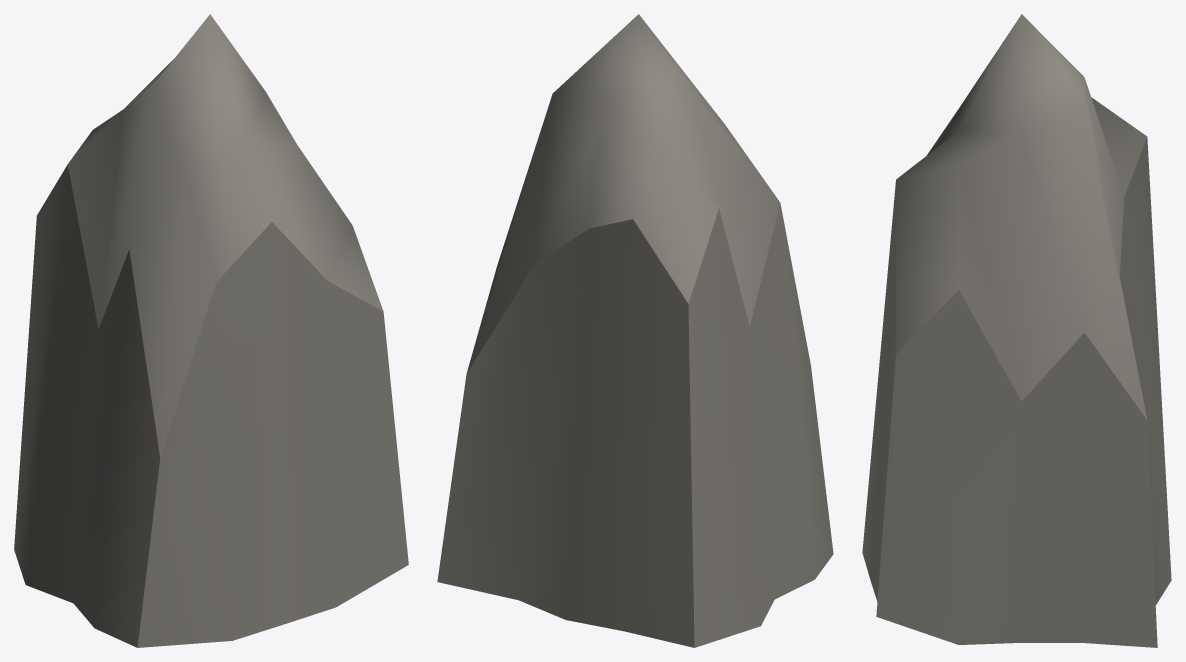
File: Rock2.FBX
3 views of the same model, side by side, from view 1: azimuth 30°, elevation 25°; view 2: azimuth 150°, elevation 25°; view 3: azimuth 270°, elevation 25° (orthographic). The views are drawn at different scales.
Parts seen in each view (by area): view 1: Box001; view 2: Box001; view 3: Box001.
Boxes of the visible parts, <box> form: Box001: <box>14,14,408,647</box>; Box001: <box>437,14,833,647</box>; Box001: <box>862,14,1171,647</box>.
Size of the model in its own units: 23.67 by 43.4 by 21.47.
